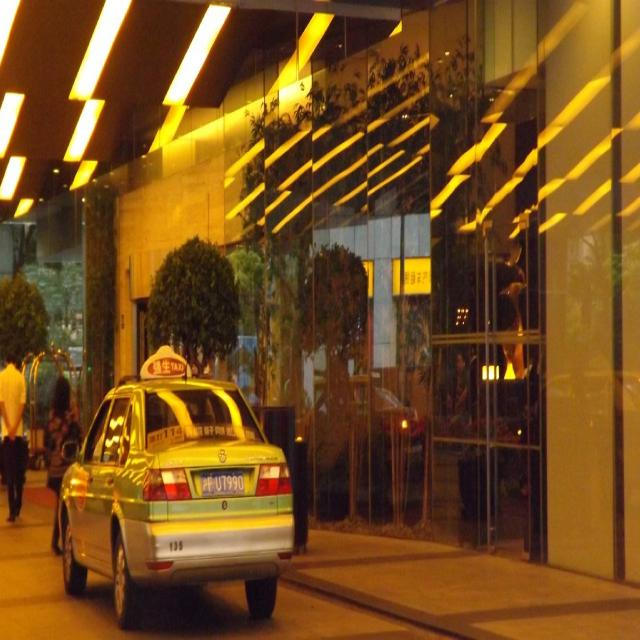car: (57, 343, 294, 627)
